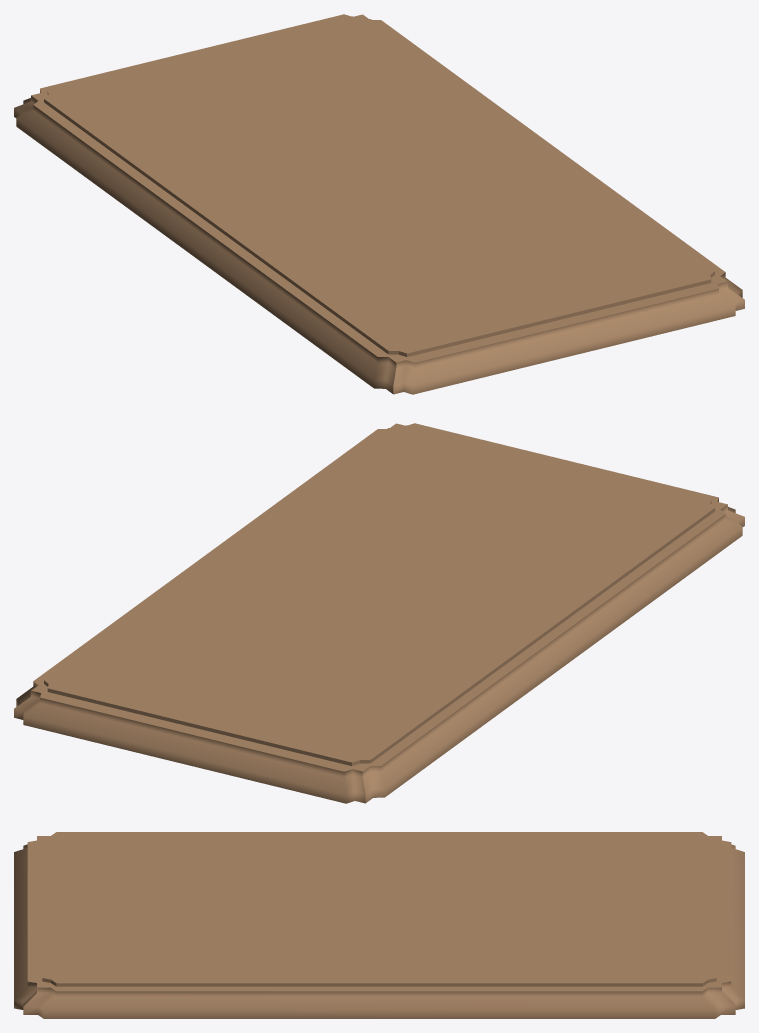
File: house_plaque.fbx
3 views of the same model, one above another, from view 1: azimuth 30°, elevation 25°; view 2: azimuth 150°, elevation 25°; view 3: azimuth 270°, elevation 25° (orthographic). The views are drawn at different scales.
Visible parts, largest first — view 1: pCube1; view 2: pCube1; view 3: pCube1.
Part boxes in pixels (<box>): pCube1: <box>14,14,744,394</box>; pCube1: <box>14,423,744,803</box>; pCube1: <box>14,832,744,1018</box>.
Bounding box in the file's own units: 15.33 × 1.11 × 28.09.
